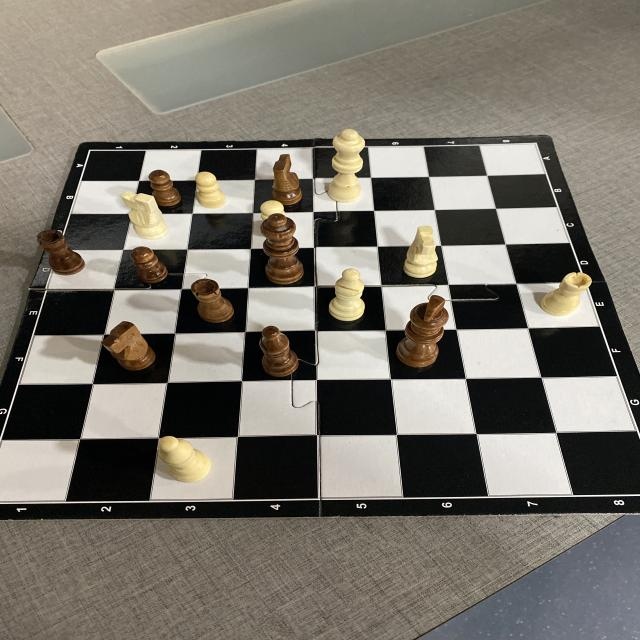Black-Bishop: (260, 325, 299, 375)
Black-King: (394, 294, 453, 368)
Black-Knight: (100, 321, 156, 370), (267, 153, 305, 206)
Black-Pawn: (133, 246, 166, 284), (152, 168, 182, 208)
Black-Queen: (264, 215, 302, 285)
Black-Rook: (192, 276, 234, 326), (38, 230, 82, 274)
White-Bishop: (157, 435, 210, 483), (329, 269, 366, 323)
White-Knight: (403, 227, 442, 279), (122, 192, 166, 235)
White-Pawn: (196, 172, 224, 208), (260, 201, 289, 229)
White-Queen: (327, 130, 367, 200)
White-Rook: (540, 272, 594, 315)
